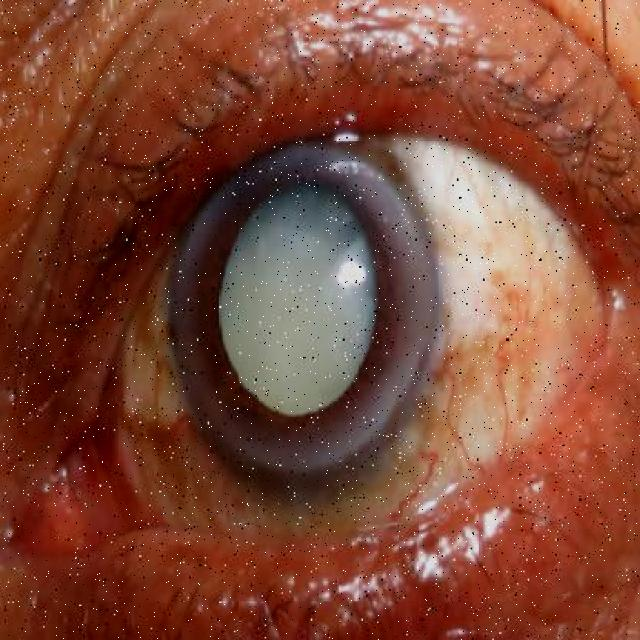Cataract: (156, 128, 447, 503)
